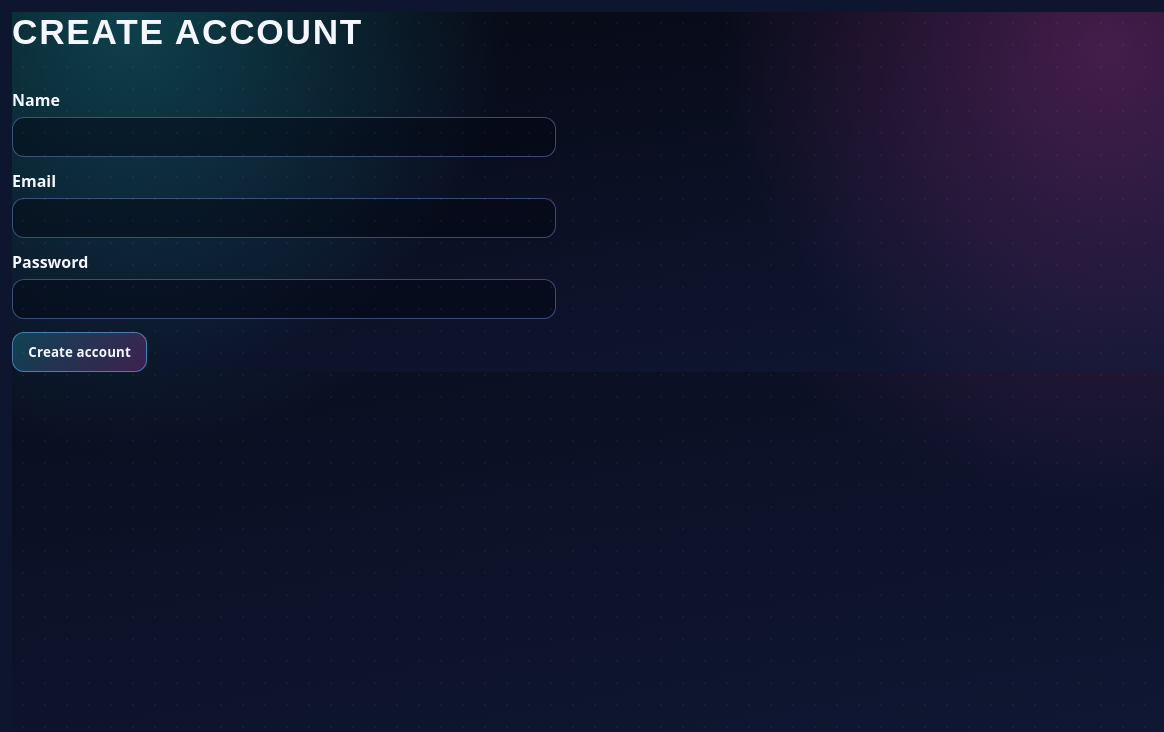
Test: RegisterForm › shows a friendly fallback error when register returns non-JSON
Type "Tester" into the field labelled "Name".
click(284, 137); type("Tester")  # box [12, 117, 556, 157]
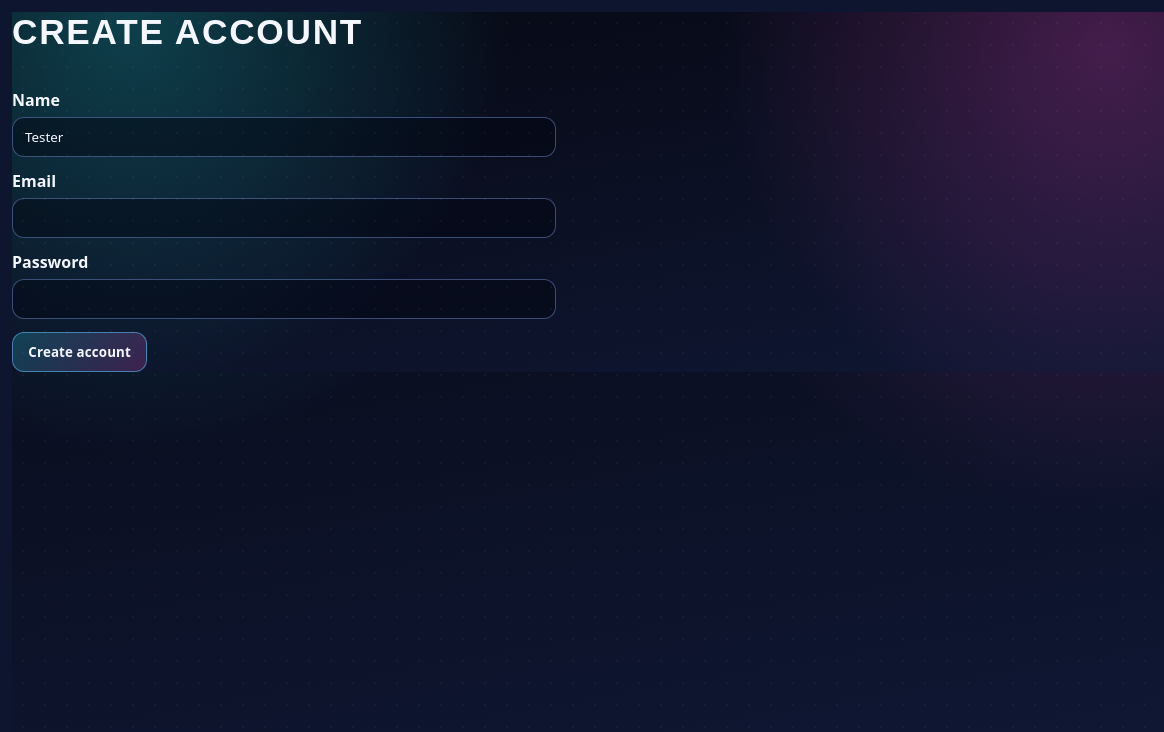
Type "tester@example.com" into the field labelled "Email".
click(284, 218); type("tester@example.com")  # box [12, 198, 556, 238]
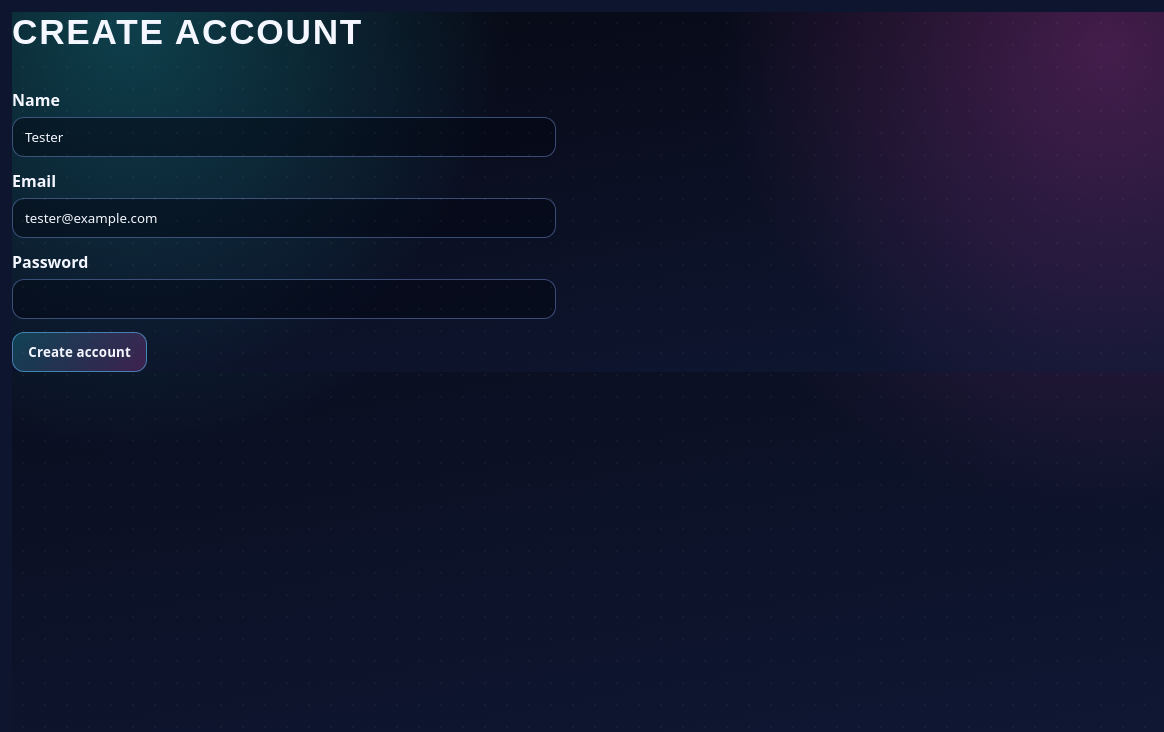
Type "password123" into the password field labelled "Password".
click(284, 299); type("password123")  # box [12, 279, 556, 319]
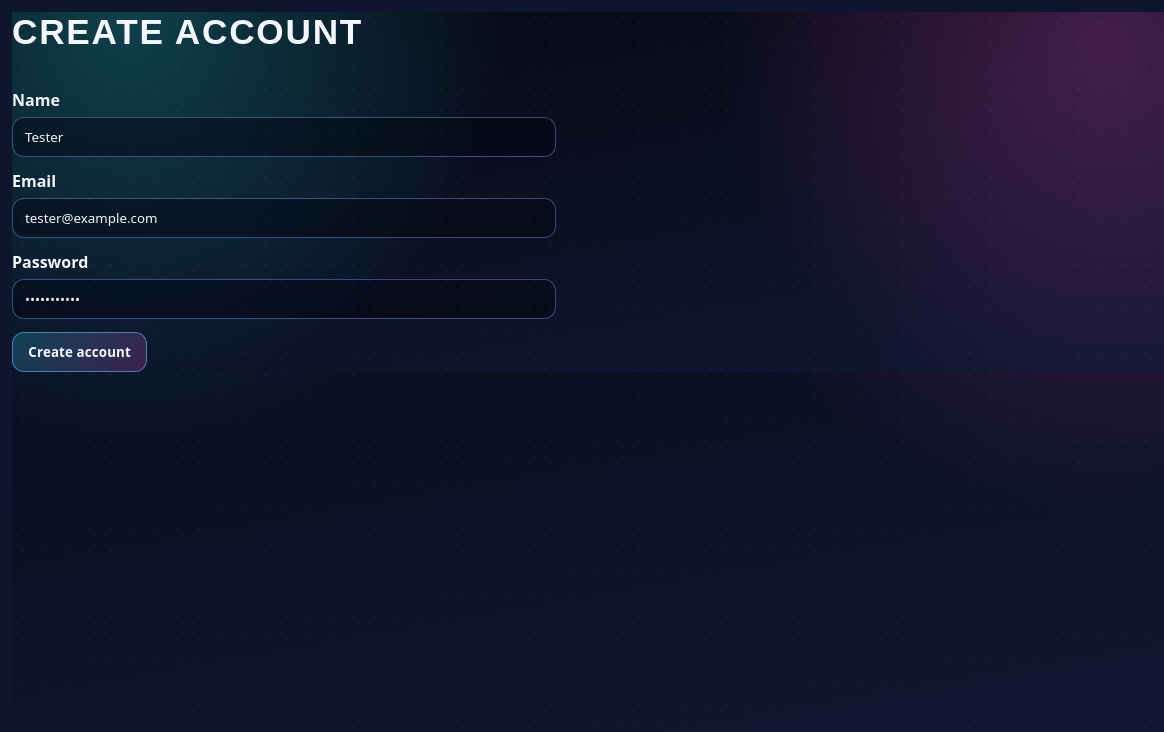
Submit the form "Create account", box [12, 12, 556, 372]
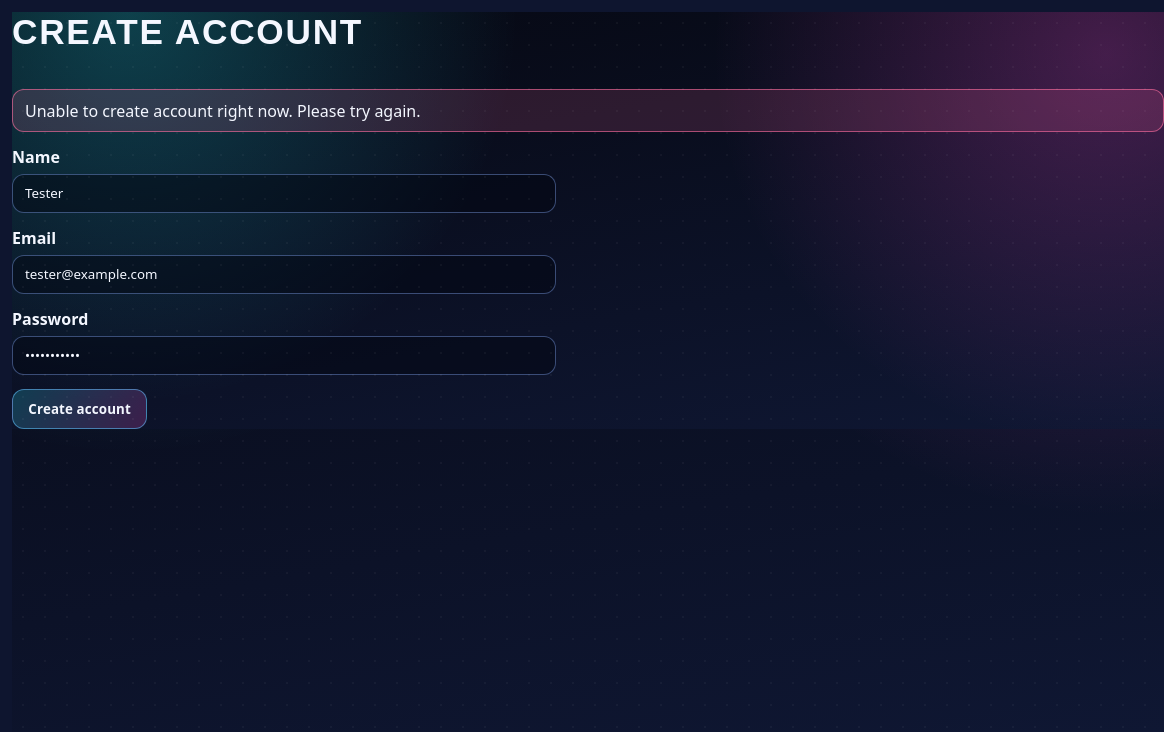
Result: the text "Unable to create account right now. Please try again." is shown at [12, 89, 1163, 132]
